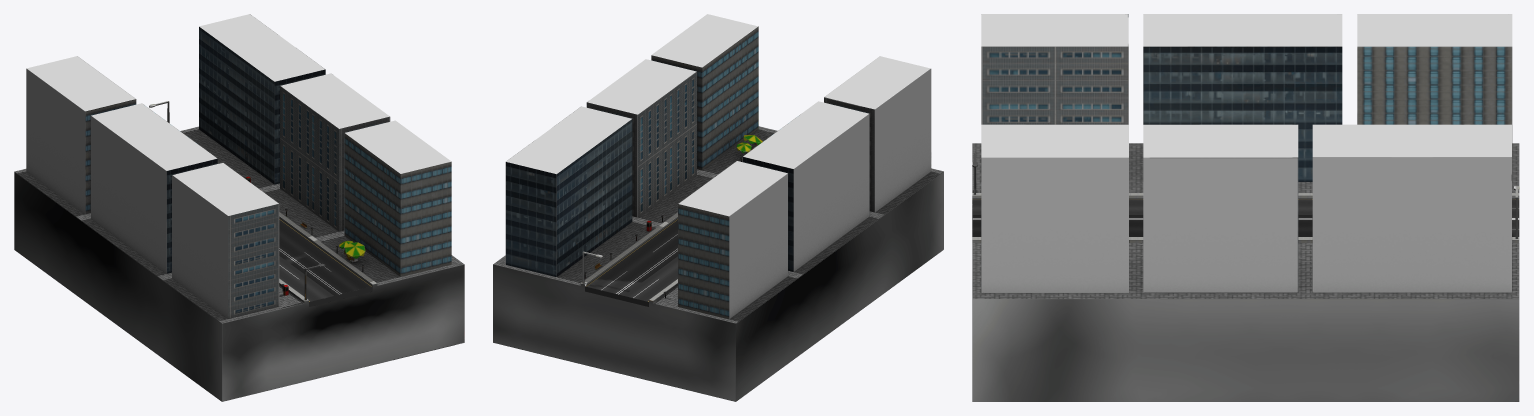
File: ExportedBlenderFBXFile.fbx
3 views of the same model, side by side, from view 1: azimuth 30°, elevation 25°; view 2: azimuth 150°, elevation 25°; view 3: azimuth 270°, elevation 25° (orthographic). The views are drawn at different scales.
Visible parts, largest first — view 1: Cube; view 2: Cube; view 3: Cube.
Part boxes in pixels (bbox=[...]): Cube: bbox=[14, 14, 464, 401]; Cube: bbox=[493, 14, 943, 401]; Cube: bbox=[972, 14, 1519, 401].
Bounding box in the file's own units: 49.99 × 35.65 × 74.24.
